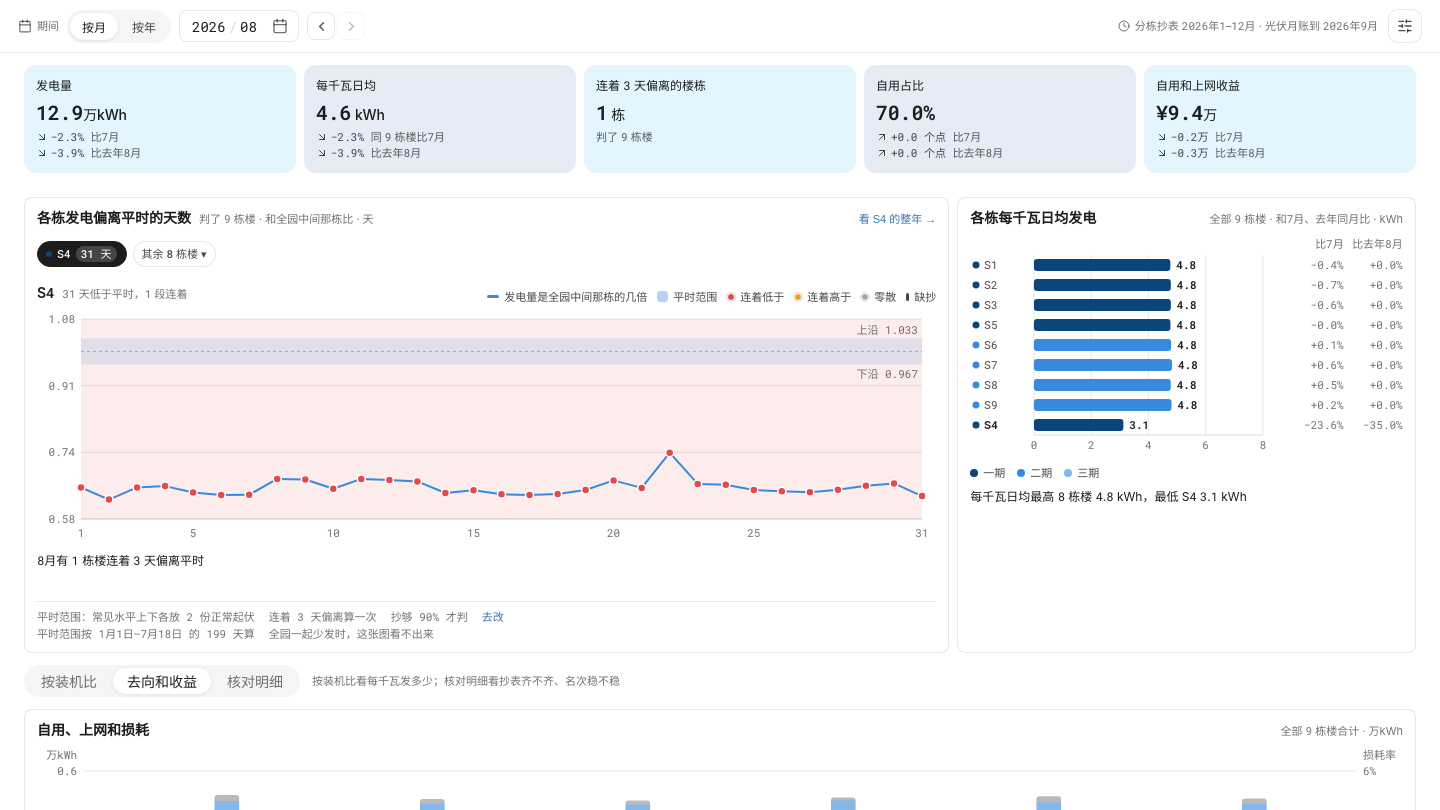
it: 光伏分栋分析 · 四个状态各自渲染什么 › ❗锚点参数没有:合格线卡写「合格线没填」,不画比合格线的条
The image size is (1440, 810).
Step 1. Click the tab "按装机比" → (69, 681), box [27, 668, 111, 694]
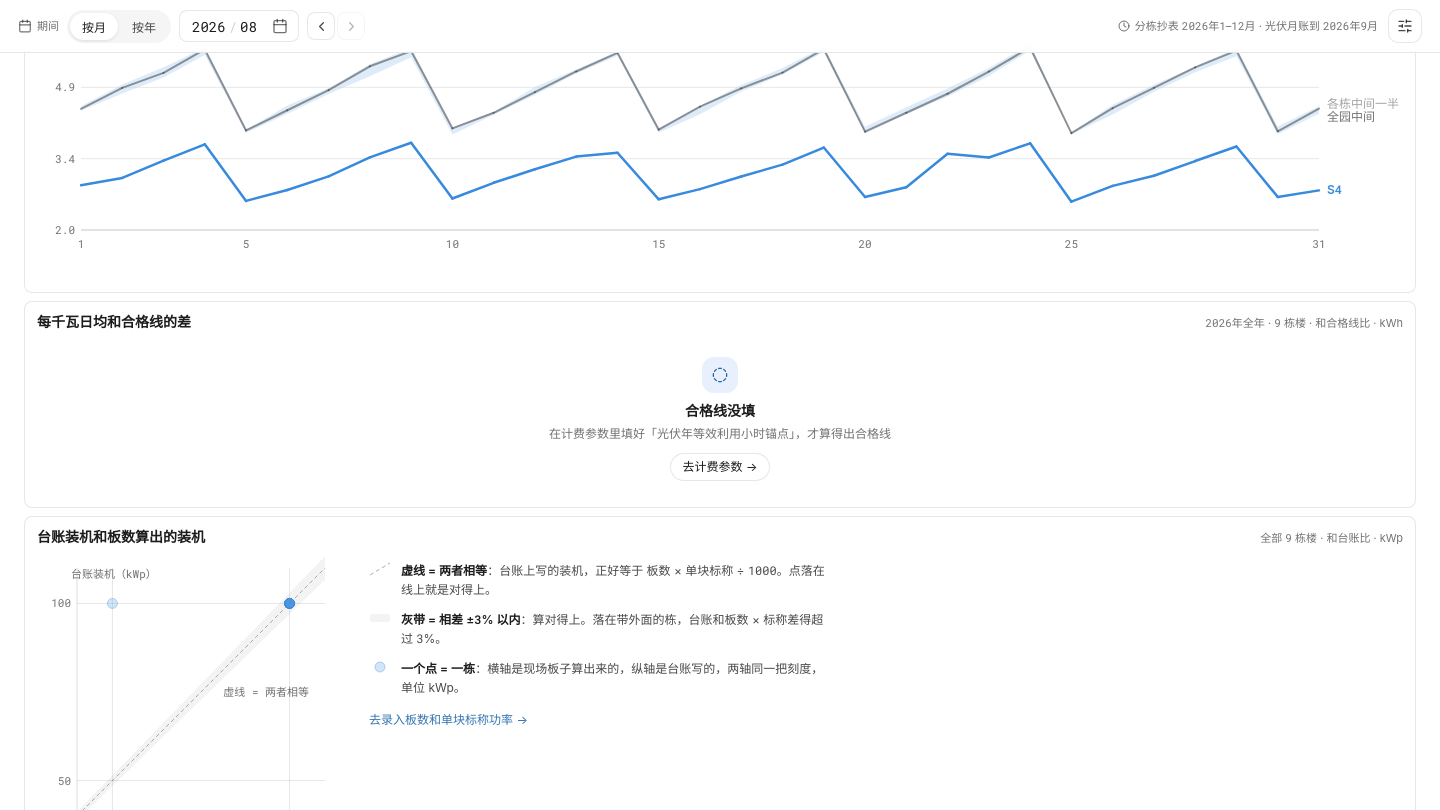
Expected: the text "每千瓦日均和合格线的差" is shown, [37, 312, 191, 332]
Expected: the element with class "av2-card" shows "合格线没填", [685, 402, 755, 419]
